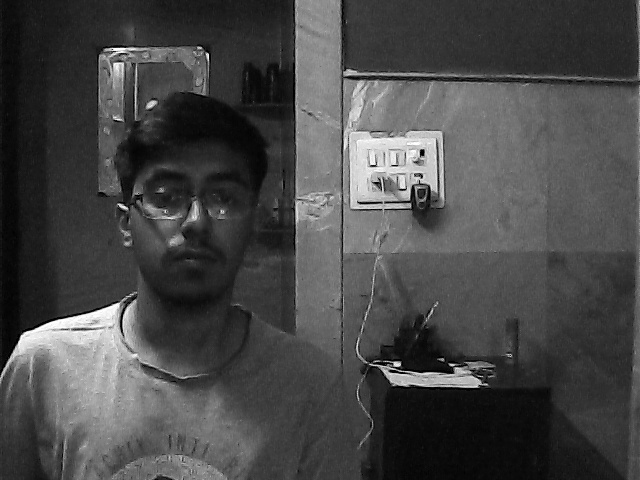nomask: (130, 145, 257, 309)
